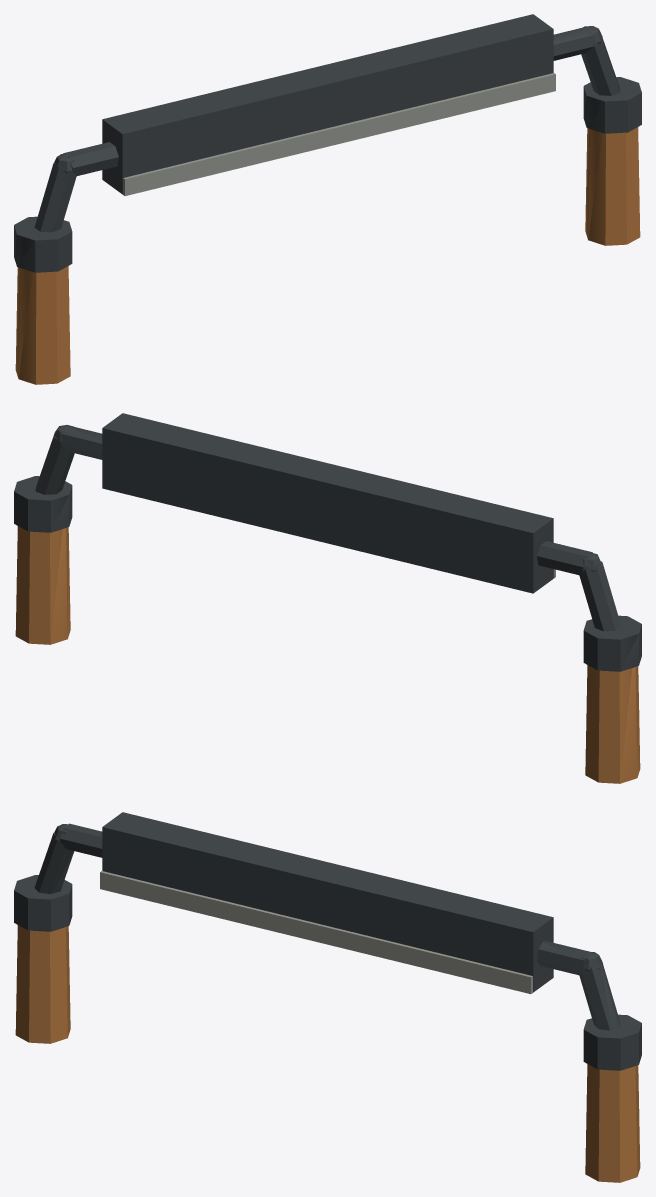
File: 203_drawknife.fbx
3 views of the same model, one above another, from view 1: azimuth 30°, elevation 25°; view 2: azimuth 150°, elevation 25°; view 3: azimuth 330°, elevation 25° (orthographic).
Parts seen in each view (by area): view 1: 203_drawknife; view 2: 203_drawknife; view 3: 203_drawknife.
Boxes of the visible parts, <box> form: 203_drawknife: <box>14,14,641,384</box>; 203_drawknife: <box>14,413,641,783</box>; 203_drawknife: <box>14,812,641,1182</box>.
Size of the model in its own units: 0.808 by 0.285 by 0.068.
1 material, 1 textured.
